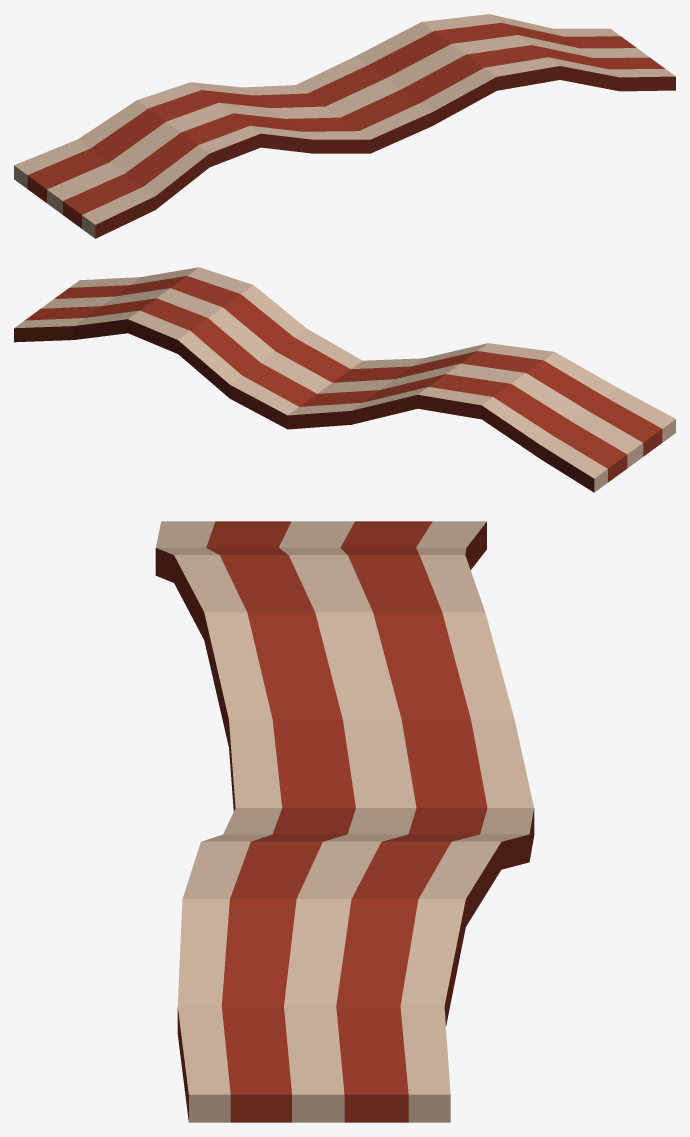
Rendered from bacon-strip-8c64c7.glb.
3 renders of one model, top to bottom at view 1: azimuth 30°, elevation 25°; view 2: azimuth 150°, elevation 25°; view 3: azimuth 270°, elevation 25°, orthographic. The views are drawn at different scales.
Size of the model in its own units: 0.22 by 0.0195 by 0.0614.
